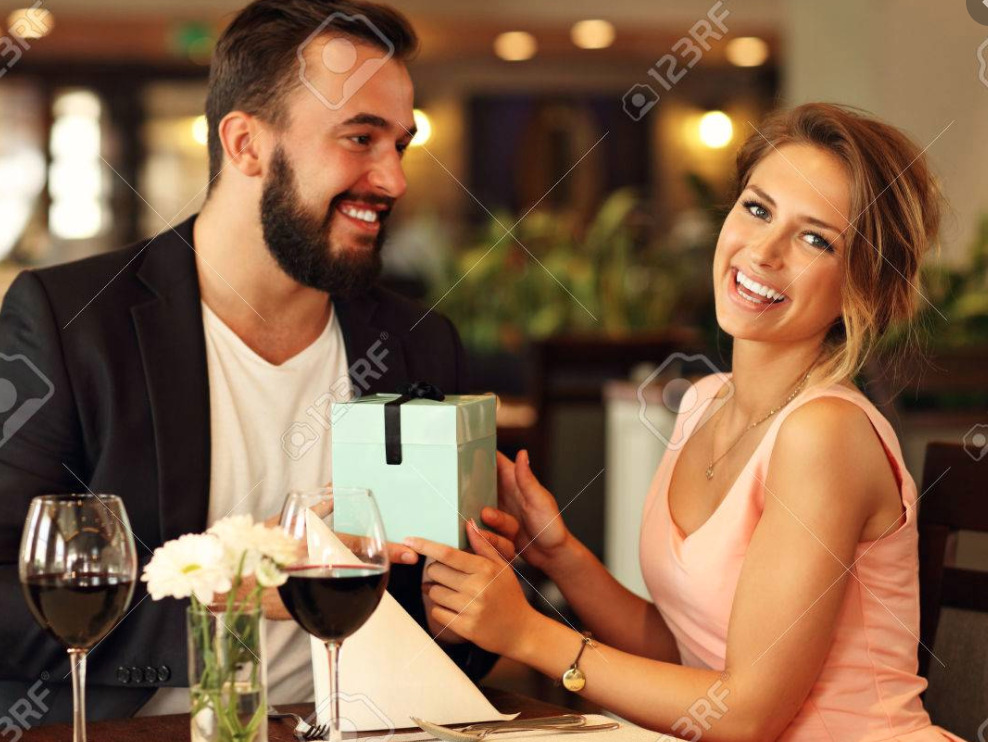Bad: (3, 1, 939, 496)
